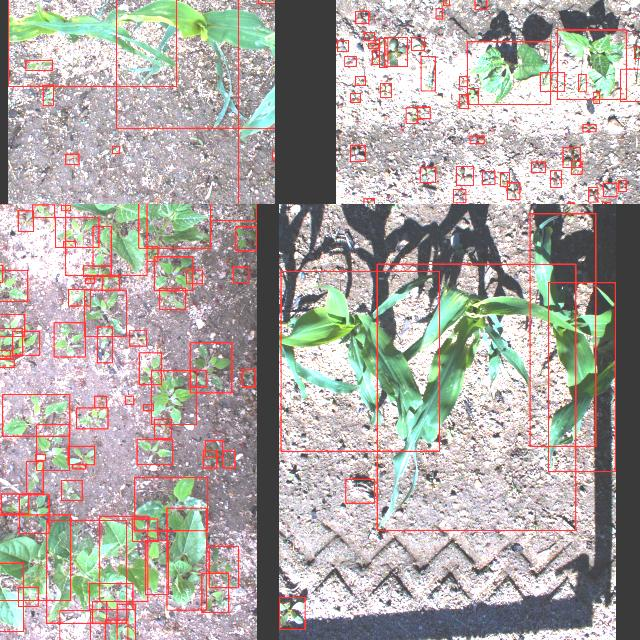crop: (377, 264, 576, 530), (280, 270, 438, 450), (115, 0, 275, 127), (529, 212, 595, 446), (7, 0, 175, 85), (548, 282, 614, 470), (46, 520, 126, 622), (238, 0, 275, 204), (0, 514, 70, 600), (65, 204, 146, 275), (466, 41, 550, 104), (556, 29, 626, 99), (99, 515, 147, 601), (166, 507, 206, 609), (138, 204, 210, 247), (0, 562, 23, 631)
weed: (134, 476, 208, 530), (2, 393, 70, 435), (152, 370, 196, 424), (190, 342, 232, 392), (84, 290, 126, 336), (36, 424, 68, 470), (54, 217, 98, 247), (144, 540, 168, 594), (154, 256, 192, 290), (209, 545, 239, 587), (18, 493, 48, 532), (88, 583, 132, 609), (54, 322, 85, 356), (202, 572, 228, 612), (136, 438, 172, 464), (58, 610, 89, 640), (0, 269, 27, 300), (278, 597, 304, 629), (138, 352, 162, 384), (210, 204, 256, 220), (92, 225, 110, 265), (344, 478, 374, 502), (116, 603, 135, 640), (384, 36, 406, 66), (620, 68, 640, 101), (76, 408, 108, 428), (12, 330, 38, 354), (0, 327, 22, 355), (96, 326, 112, 362), (132, 518, 158, 540), (159, 287, 185, 309), (0, 493, 28, 513), (0, 314, 24, 336), (26, 461, 42, 493), (104, 619, 127, 640), (236, 226, 256, 250), (420, 56, 434, 90), (68, 446, 94, 464), (540, 72, 564, 90), (17, 586, 37, 606), (61, 480, 81, 500), (68, 288, 90, 306), (562, 147, 580, 167), (154, 418, 170, 438), (92, 601, 106, 623), (456, 166, 472, 184), (205, 440, 223, 456), (128, 329, 146, 345), (32, 205, 54, 218), (24, 60, 52, 70), (378, 38, 388, 66), (83, 265, 111, 275), (18, 210, 32, 230), (190, 369, 206, 386), (419, 166, 435, 182), (232, 266, 248, 282), (203, 449, 217, 467), (101, 276, 119, 290), (350, 145, 364, 161), (506, 182, 520, 198), (186, 269, 202, 283), (223, 450, 235, 468), (242, 369, 254, 386), (42, 85, 52, 105), (603, 182, 617, 196), (530, 160, 546, 172), (411, 36, 424, 50), (550, 170, 560, 187), (405, 108, 417, 122), (452, 190, 466, 202), (482, 170, 494, 184), (354, 11, 368, 23), (146, 246, 158, 260), (467, 87, 477, 103), (588, 186, 598, 202), (570, 160, 582, 173), (578, 73, 586, 91), (417, 106, 429, 118), (94, 395, 106, 407), (64, 154, 78, 164), (380, 83, 390, 97), (458, 94, 468, 108), (499, 172, 508, 186), (469, 135, 483, 143), (337, 40, 348, 50), (344, 56, 354, 66), (582, 125, 596, 132), (474, 0, 486, 8), (0, 358, 12, 366), (349, 92, 359, 101), (372, 50, 378, 64), (0, 349, 9, 358), (355, 76, 365, 84), (459, 76, 467, 86), (363, 32, 373, 40), (618, 180, 626, 190), (634, 46, 640, 59), (125, 395, 134, 403), (63, 241, 75, 247), (593, 91, 599, 102), (362, 198, 373, 204), (111, 145, 119, 153), (436, 8, 442, 18), (368, 42, 378, 48), (35, 453, 45, 459), (143, 404, 153, 410), (60, 204, 70, 210), (72, 464, 86, 468), (271, 151, 275, 159), (86, 278, 94, 282), (443, 0, 449, 5), (602, 201, 610, 204), (566, 202, 574, 204)
